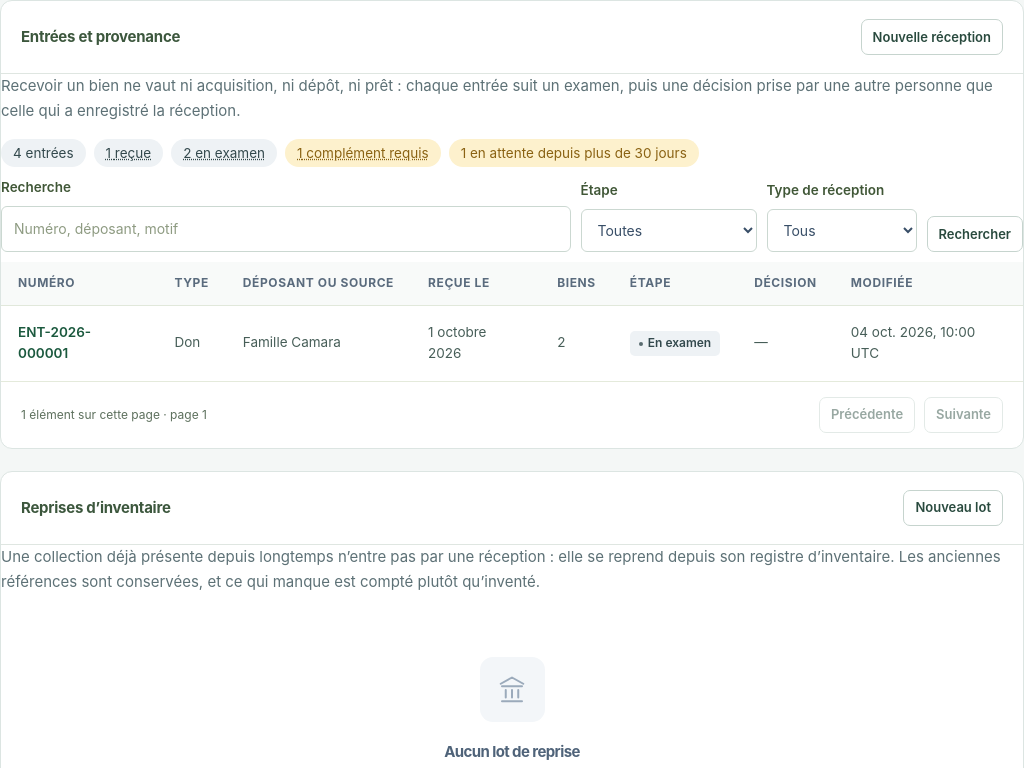
un passage bloqué est grisé et dit pourquoi
Click the button "ENT-2026-000001". click: click(79, 343)
box: [18, 322, 140, 365]
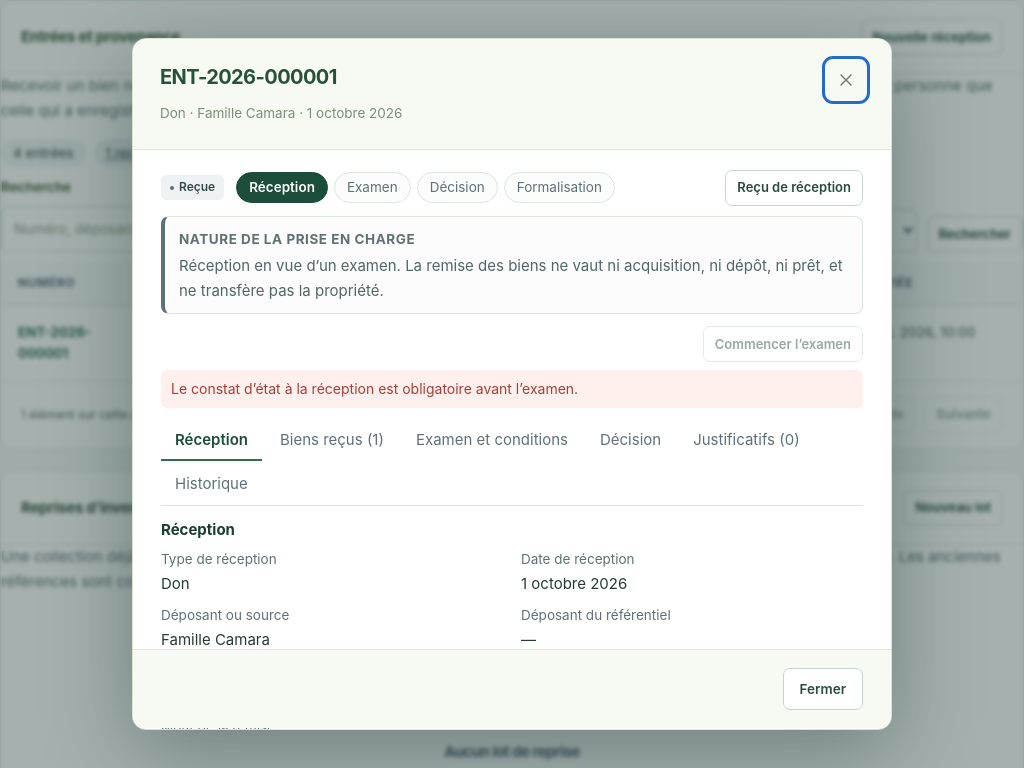
expect the button "Commencer l’examen" is disabled: met, box [703, 326, 863, 362]
expect the text "constat d’état à la réception est obligatoire" is shown: met, box [171, 380, 578, 398]
